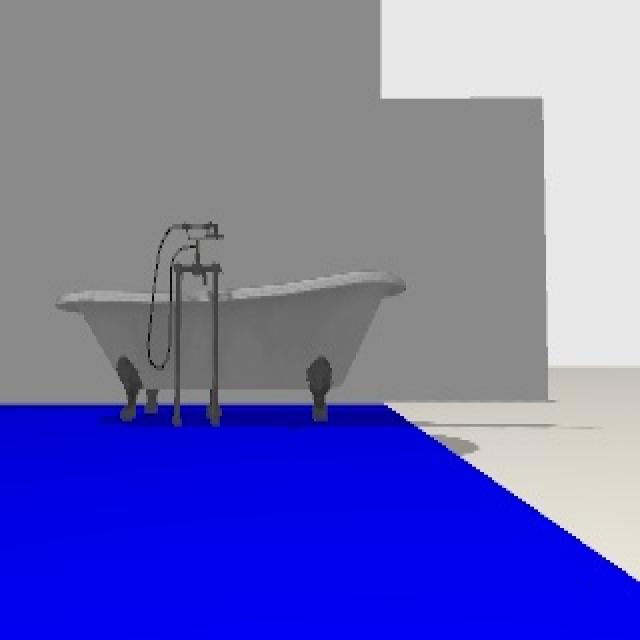bathtub: (54, 218, 412, 427)
